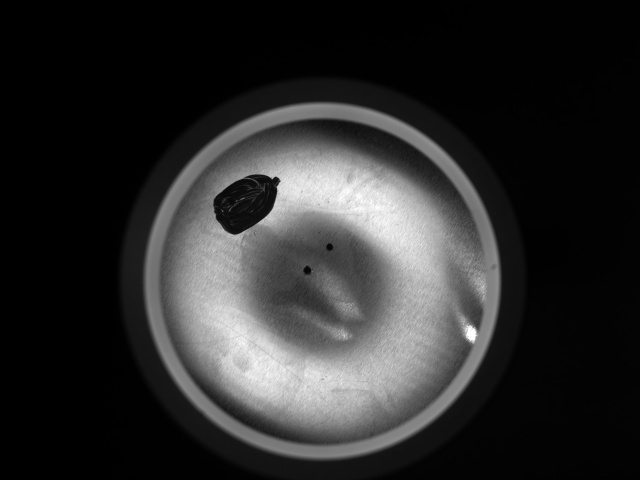zang_wu: (210, 174, 285, 235)
zhen_kong: (301, 263, 313, 277), (323, 240, 335, 252)
